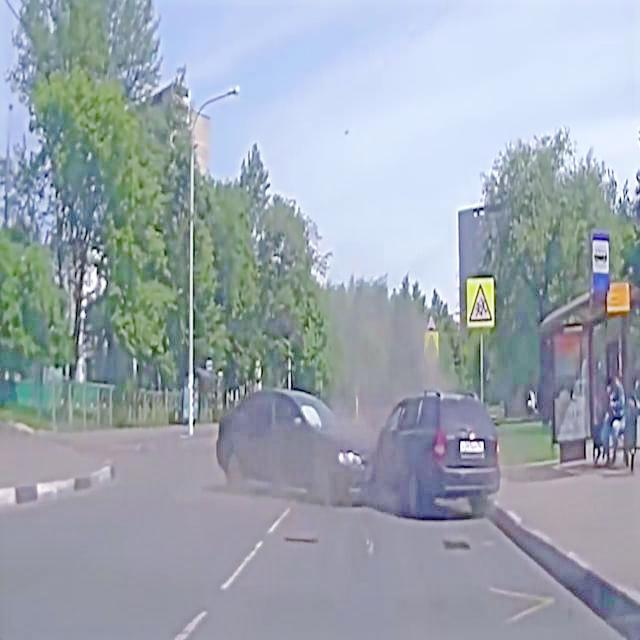Car: (218, 385, 376, 507), (365, 388, 503, 520)
Minor Accident: (203, 364, 512, 522)
